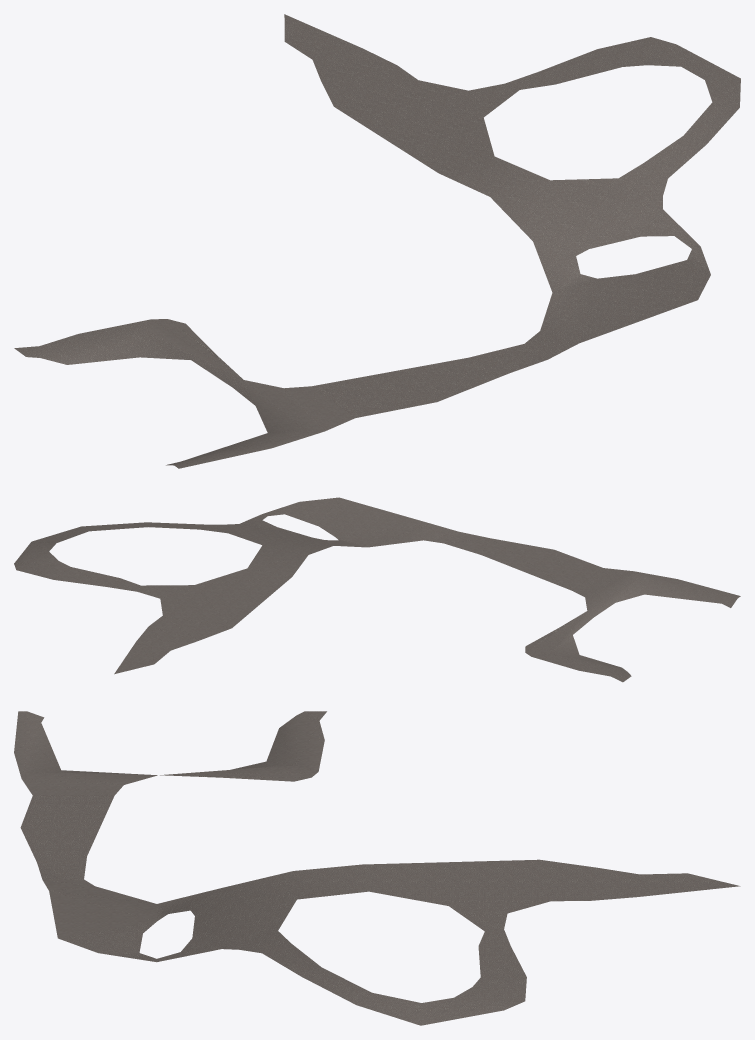
File: kd_stage_135c43_4_143_bounded_piece_0.glb
3 views of the same model, one above another, from view 1: azimuth 30°, elevation 25°; view 2: azimuth 150°, elevation 25°; view 3: azimuth 270°, elevation 25° (orthographic). The views are drawn at different scales.
Visible parts, largest first — view 1: kd_stage_135c43_4_143_bounded_piece_0; view 2: kd_stage_135c43_4_143_bounded_piece_0; view 3: kd_stage_135c43_4_143_bounded_piece_0.
Part boxes in pixels (x1,y1,x2,y2): kd_stage_135c43_4_143_bounded_piece_0: [14, 14, 740, 468]; kd_stage_135c43_4_143_bounded_piece_0: [14, 497, 740, 682]; kd_stage_135c43_4_143_bounded_piece_0: [14, 711, 740, 1025].
Size of the model in its own units: 7.18 by 0.5414 by 6.21.
1 material, 1 textured.
